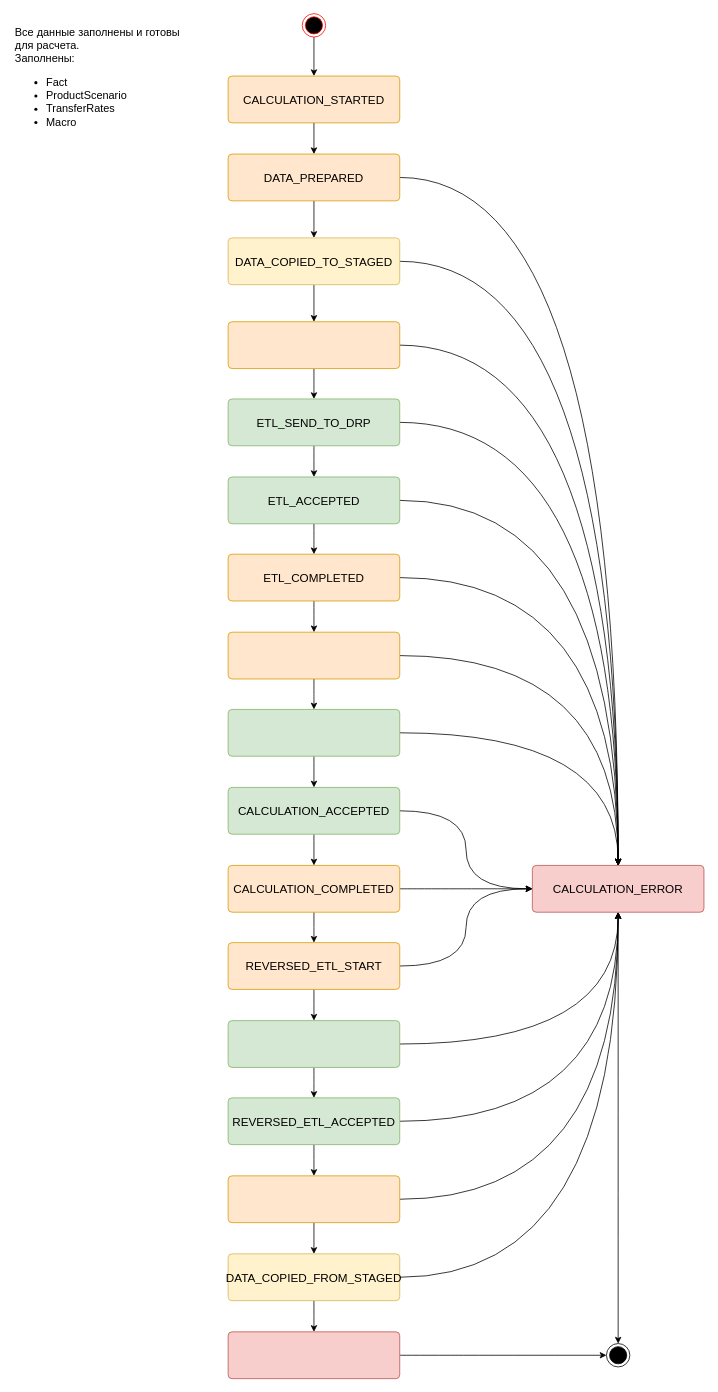
This 718x1392 diagram has some shape labels left out. Each missing label, with the box of its shape:
CALCULATION_FINISHED: (227, 1331, 400, 1379)
CALCULATION_SENT_TO_DRP: (227, 709, 400, 756)
CALCULATION_START: (227, 631, 400, 679)
ETL_START: (227, 321, 400, 369)
REVERSED_ETL_COMPLETED: (227, 1175, 400, 1223)
REVERSED_ETL_SENT_TO_DRP: (227, 1020, 400, 1067)
